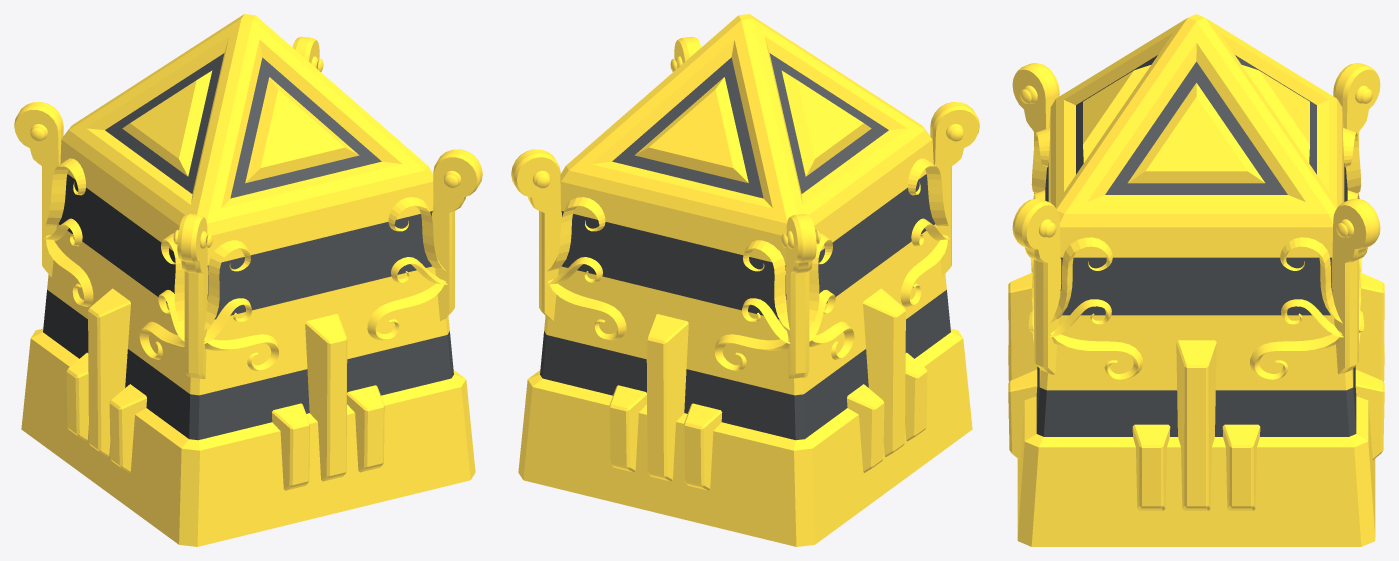
The model's file is religious_sarcophagus_large.fbx.
3 views of the same model, side by side, from view 1: azimuth 30°, elevation 25°; view 2: azimuth 150°, elevation 25°; view 3: azimuth 270°, elevation 25° (orthographic). The views are drawn at different scales.
Parts seen in each view (by area): view 1: block_1, pCube163, pCube164, pCube121 (×2), swirl3 (×4), pCube120 (×2), pCylinder103, pCylinder100, pCylinder101, swirls46 (×2), swirl2 (×3), swirls1 (+1 smaller); view 2: block_1, pCube165, pCube164, pCube120 (×2), swirl3 (×4), pCube121 (×2), pCylinder102, pCylinder101, pCylinder100, swirls46 (×2), swirl2 (×3), swirls59 (+1 smaller); view 3: block_1, pCube166, pCylinder103, pCylinder102, pCube120 (×2), pCube121 (×2), swirl3 (×2), pCube163, pCube165, swirls46 (×2), pCylinder101, pCylinder100 (+3 smaller).
Part boxes in pixels (<box>): block_1: <box>21,14,475,546</box>; pCube163: <box>305,314,347,481</box>; pCube164: <box>88,288,130,456</box>; pCube121 (×2): <box>109,384,384,472</box>; swirl3 (×4): <box>46,235,445,370</box>; pCube120 (×2): <box>66,352,309,490</box>; pCylinder103: <box>432,149,482,320</box>; pCylinder100: <box>177,214,207,378</box>; pCylinder101: <box>14,102,63,276</box>; swirls46 (×2): <box>45,158,250,330</box>; swirl2 (×3): <box>158,257,447,343</box>; swirls1: <box>388,197,446,271</box>; block_1: <box>518,14,972,546</box>; pCube165: <box>646,314,688,481</box>; pCube164: <box>863,288,905,456</box>; pCube120 (×2): <box>609,384,884,472</box>; swirl3 (×4): <box>548,235,947,370</box>; pCube121 (×2): <box>684,352,927,490</box>; pCylinder102: <box>511,149,561,321</box>; pCylinder101: <box>786,214,816,378</box>; pCylinder100: <box>930,102,979,276</box>; swirls46 (×2): <box>547,197,832,326</box>; swirl2 (×3): <box>546,257,835,343</box>; swirls59: <box>743,240,789,330</box>; block_1: <box>1017,14,1375,546</box>; pCube166: <box>1176,340,1216,510</box>; pCylinder103: <box>1012,198,1061,374</box>; pCylinder102: <box>1331,198,1380,374</box>; pCube120 (×2): <box>1132,369,1384,510</box>; pCube121 (×2): <box>1008,369,1260,510</box>; swirl3 (×2): <box>1050,331,1342,379</box>; pCube163: <box>1008,272,1037,381</box>; pCube165: <box>1355,272,1384,381</box>; swirls46 (×2): <box>1031,128,1112,323</box>; pCylinder101: <box>1333,63,1380,194</box>; pCylinder100: <box>1012,63,1059,194</box>.
Bounding box in the file's own units: 5.17 × 6.87 × 5.17.
